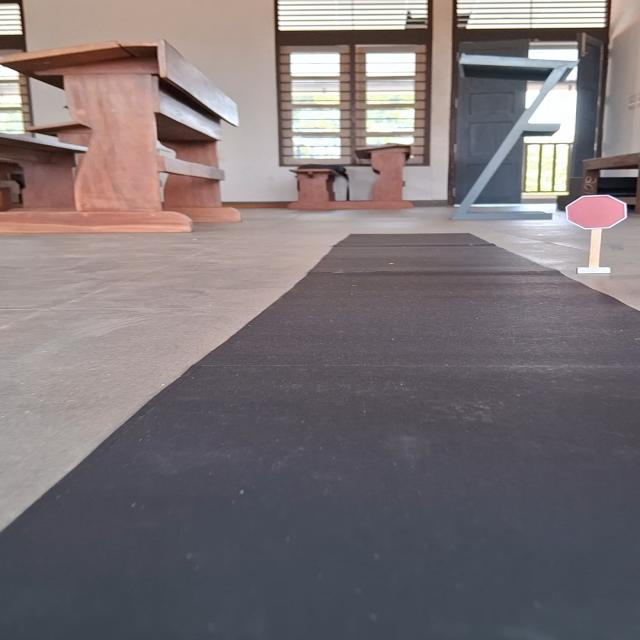Stop: (565, 194, 628, 230)
